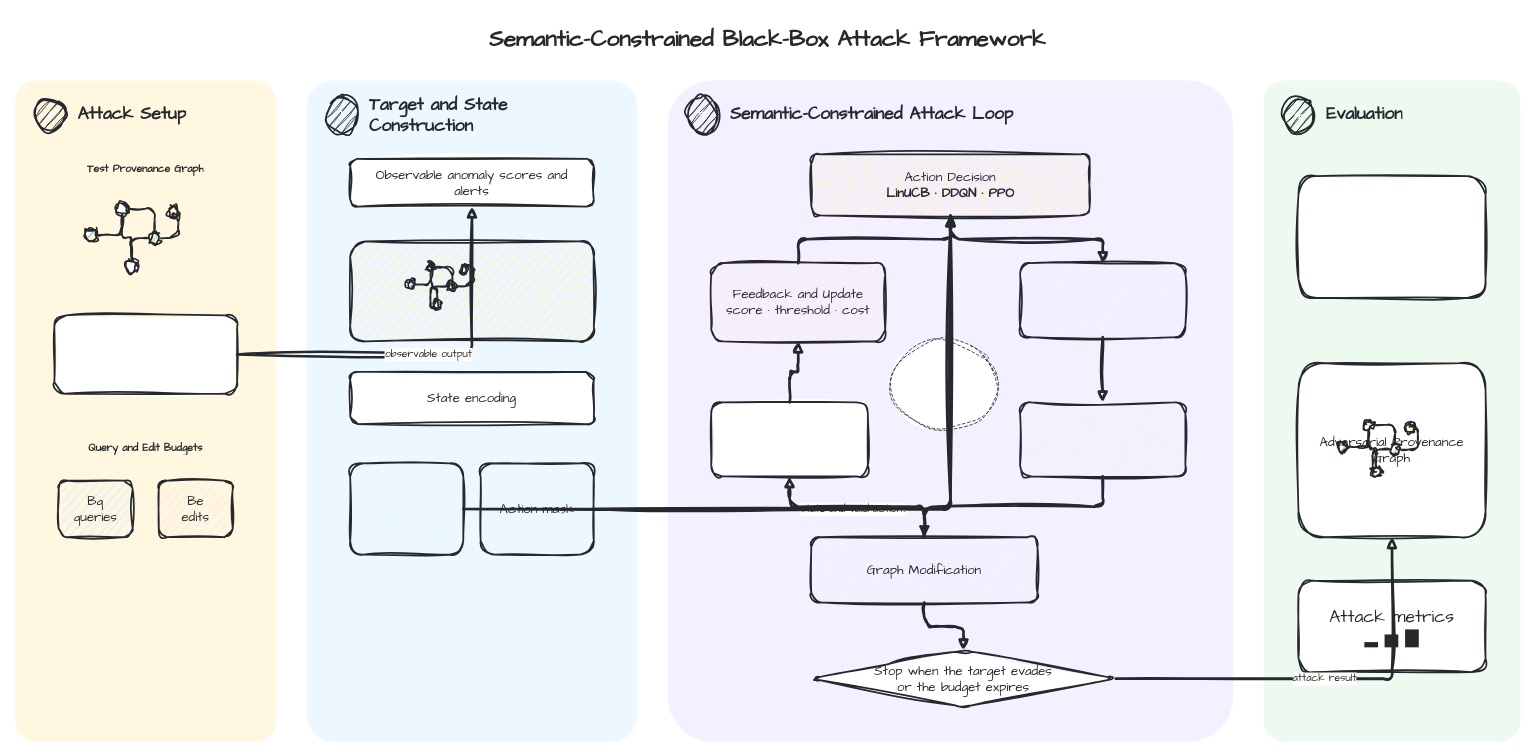
This 1535x756 diagram has some shape labels left out. The centre of each missing label's shape, as x and y in pixels:
Attack Success Rate ↑ Average Budget ↓ Average Query Time ↓: [1391,236]
Black-Box Detector f(·): [145,354]
Candidate pool: [406,508]
Detector Query f(·): [789,439]
Iterative Black-Box Feedback: [943,384]
Macro-Action L primitive edits: [1102,300]
Semantic Validation type · event · direction: [1102,439]
Target selection: [471,291]
